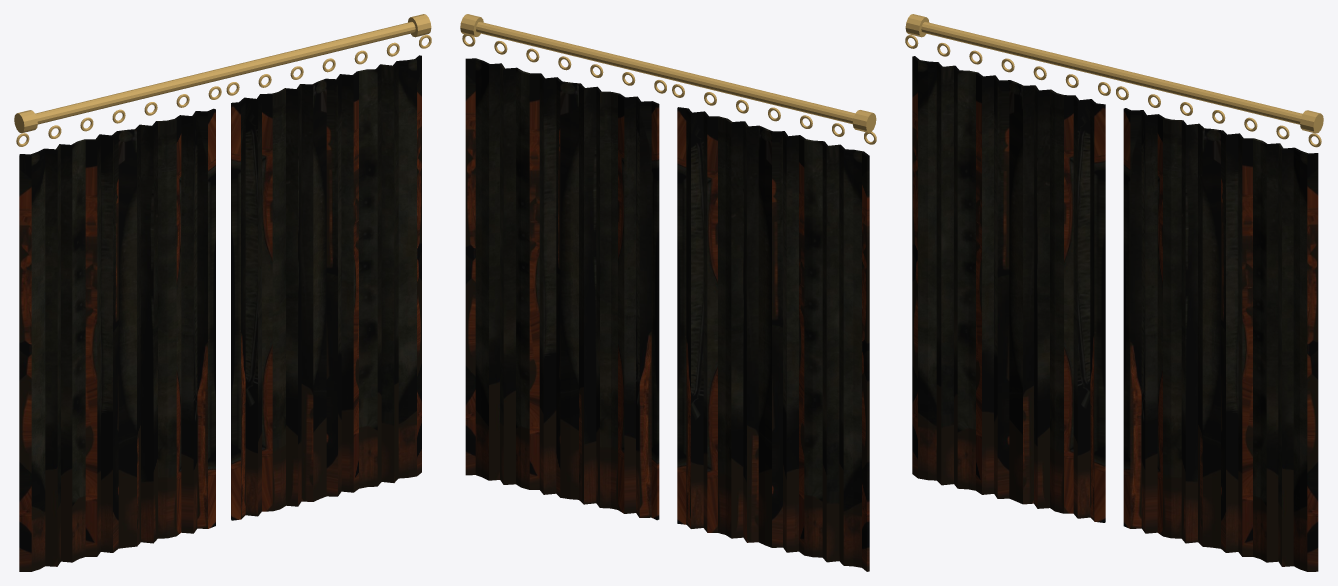
Rendered from curtains_blue.glb.
3 renders of one model, left to right at view 1: azimuth 30°, elevation 25°; view 2: azimuth 150°, elevation 25°; view 3: azimuth 330°, elevation 25°, orthographic.
Parts seen in each view (by area): view 1: curtain panel, curtain panel.001, pole; view 2: curtain panel.001, curtain panel, pole; view 3: curtain panel.001, curtain panel, pole.
Boxes of the visible parts, x1,y1,x2,y2 form: curtain panel: (19, 108, 215, 571); curtain panel.001: (231, 55, 421, 520); pole: (35, 22, 415, 124); curtain panel.001: (465, 58, 659, 520); curtain panel: (677, 107, 869, 571); pole: (476, 21, 855, 124); curtain panel.001: (1123, 108, 1318, 571); curtain panel: (912, 56, 1105, 522); pole: (921, 22, 1302, 124).
Bounding box in the file's own units: 1.86 × 1.96 × 0.08.
Materials: 2 (1 with a texture image).
